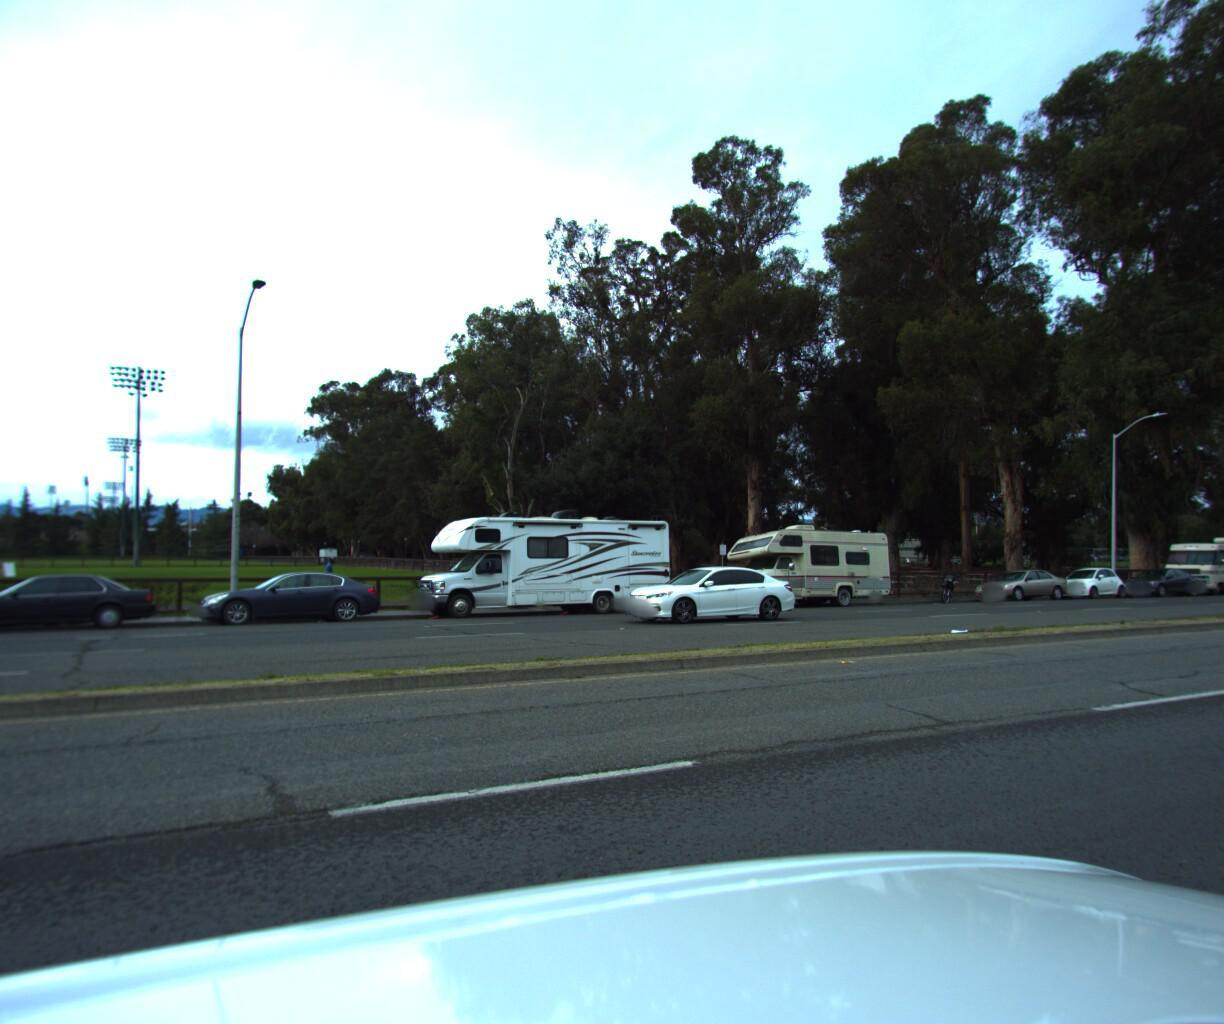car: (193, 567, 389, 633), (611, 559, 811, 622), (963, 565, 1072, 602), (1107, 561, 1203, 597), (1043, 559, 1127, 598)
motorcycle: (931, 565, 962, 601)
other_vehicle: (411, 496, 685, 630), (710, 515, 898, 610), (1149, 528, 1224, 592)
